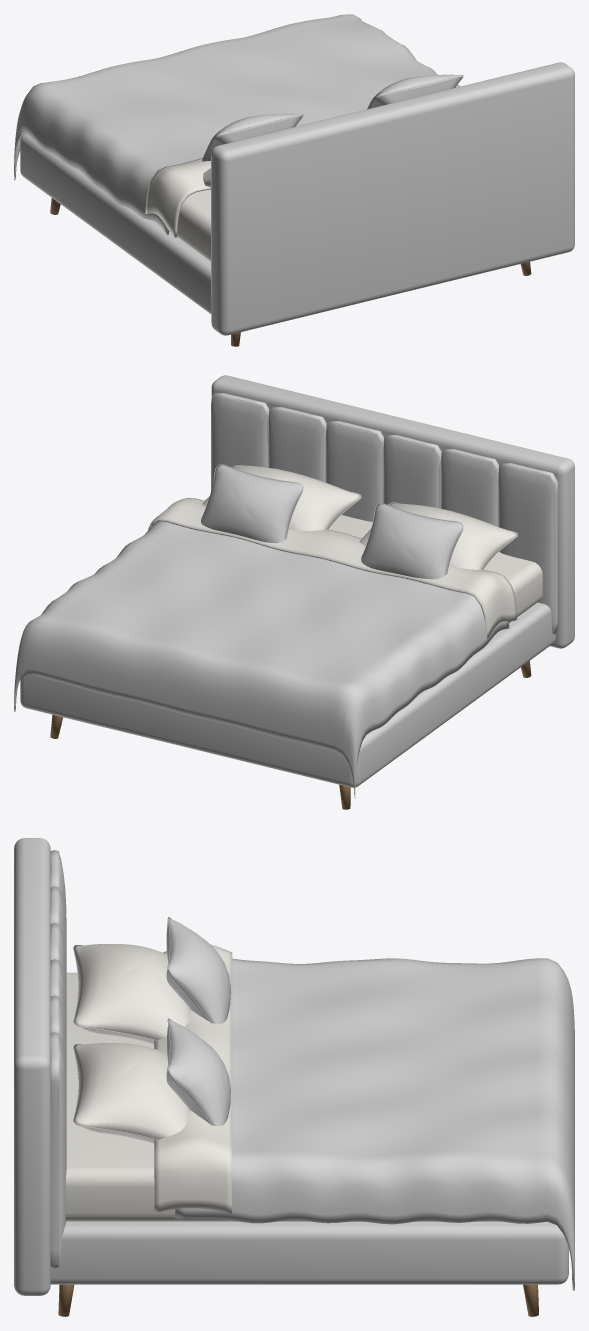
Rendered from bed-upholstered-king.glb.
The picture shows the model from 3 angles, top to bottom: view 1: azimuth 30°, elevation 25°; view 2: azimuth 150°, elevation 25°; view 3: azimuth 270°, elevation 25°; orthographic projection. The views are drawn at different scales.
Visible parts, largest first — view 1: Padded headboard, Soft draped duvet, Upholstered platform, Turned-back duvet edge, Rounded mattress, Loose accent pillow, Loose accent pillow.001; view 2: Soft draped duvet, Upholstered platform, Padded headboard, Turned-back duvet edge, Headboard padded channel, Loose accent pillow.001, Loose accent pillow, Headboard padded channel.003, Headboard padded channel.005, Headboard padded channel.002, Headboard padded channel.004, Headboard padded channel.001 (+3 smaller); view 3: Soft draped duvet, Upholstered platform, Padded headboard, Rounded mattress, Sleeping pillow.001, Sleeping pillow, Turned-back duvet edge, Loose accent pillow, Loose accent pillow.001, Headboard padded channel.005, Headboard padded channel.004, Headboard padded channel.003 (+3 smaller).
Part boxes in pixels (x1=…): Padded headboard: x1=211, y1=62, x2=574, y2=335; Soft draped duvet: x1=14, y1=14, x2=459, y2=234; Upholstered platform: x1=20, y1=133, x2=211, y2=313; Turned-back duvet edge: x1=145, y1=158, x2=210, y2=237; Rounded mattress: x1=177, y1=190, x2=210, y2=261; Loose accent pillow: x1=202, y1=113, x2=303, y2=161; Loose accent pillow.001: x1=367, y1=74, x2=463, y2=109; Soft draped duvet: x1=14, y1=521, x2=509, y2=795; Upholstered platform: x1=20, y1=602, x2=555, y2=787; Padded headboard: x1=211, y1=375, x2=574, y2=648; Turned-back duvet edge: x1=148, y1=497, x2=517, y2=638; Headboard padded channel: x1=498, y1=463, x2=558, y2=633; Loose accent pillow.001: x1=201, y1=464, x2=303, y2=543; Loose accent pillow: x1=361, y1=503, x2=462, y2=583; Headboard padded channel.003: x1=326, y1=421, x2=384, y2=521; Headboard padded channel.005: x1=211, y1=393, x2=269, y2=489; Headboard padded channel.002: x1=383, y1=435, x2=441, y2=508; Headboard padded channel.004: x1=268, y1=407, x2=326, y2=482; Headboard padded channel.001: x1=441, y1=449, x2=498, y2=526; Soft draped duvet: x1=175, y1=958, x2=574, y2=1290; Upholstered platform: x1=50, y1=1221, x2=568, y2=1284; Padded headboard: x1=14, y1=838, x2=50, y2=1295; Rounded mattress: x1=65, y1=972, x2=500, y2=1221; Sleeping pillow.001: x1=73, y1=1043, x2=190, y2=1143; Sleeping pillow: x1=73, y1=944, x2=190, y2=1044; Turned-back duvet edge: x1=154, y1=944, x2=232, y2=1213; Loose accent pillow: x1=166, y1=918, x2=230, y2=1023; Loose accent pillow.001: x1=166, y1=1019, x2=230, y2=1126; Headboard padded channel.005: x1=50, y1=1032, x2=66, y2=1268; Headboard padded channel.004: x1=50, y1=995, x2=66, y2=1103; Headboard padded channel.003: x1=50, y1=959, x2=66, y2=1063.
Size of the model in its own units: 1.96 by 1.12 by 2.06.
3 materials, 1 textured.
